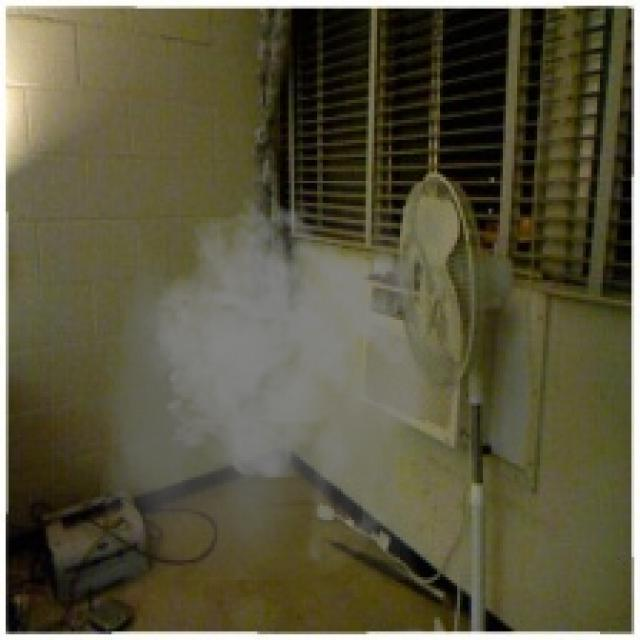Smoke: (100, 195, 446, 580)
